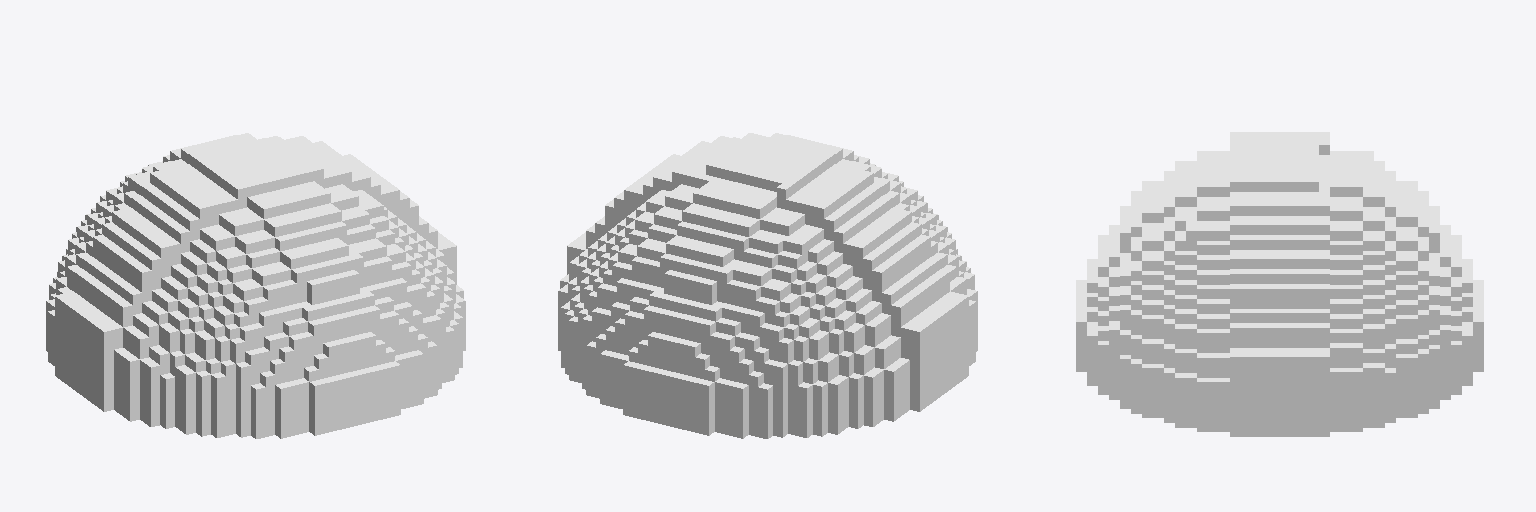
File: OneWayBlock.obj
3 renders of one model, left to right at view 1: azimuth 30°, elevation 25°; view 2: azimuth 150°, elevation 25°; view 3: azimuth 270°, elevation 25°, orthographic.
Size of the model in its own units: 37 by 19 by 37.